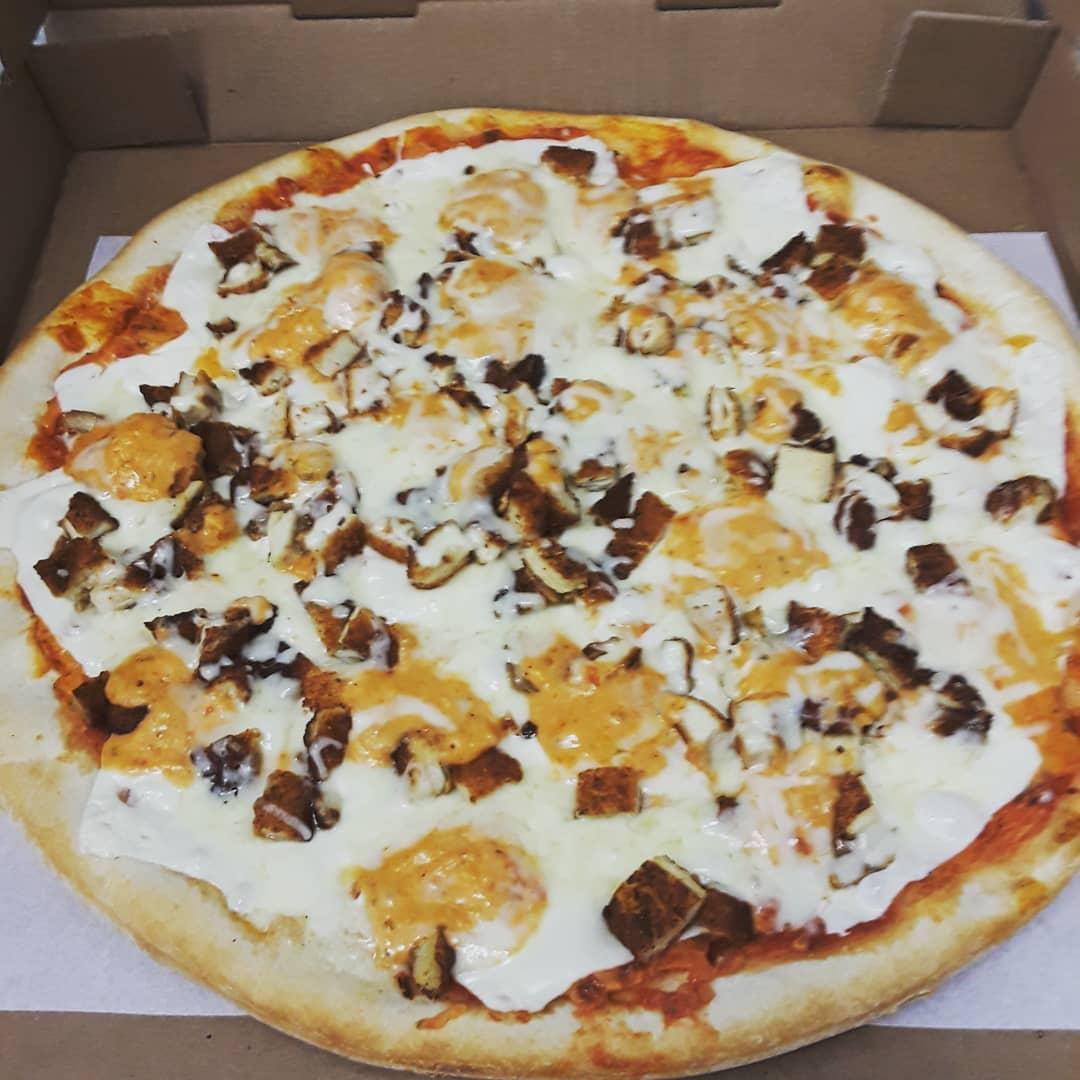Pizza: (8, 101, 1080, 1080)
